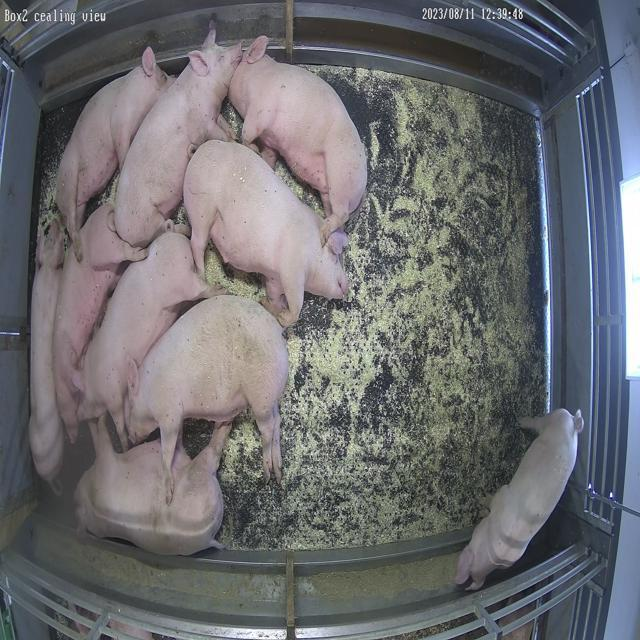Pig: (126, 295, 288, 502), (184, 140, 349, 326), (79, 232, 216, 448), (229, 35, 368, 240), (114, 29, 242, 247), (55, 46, 172, 254), (457, 409, 585, 592), (53, 203, 147, 440), (74, 417, 231, 556), (28, 218, 65, 490)
